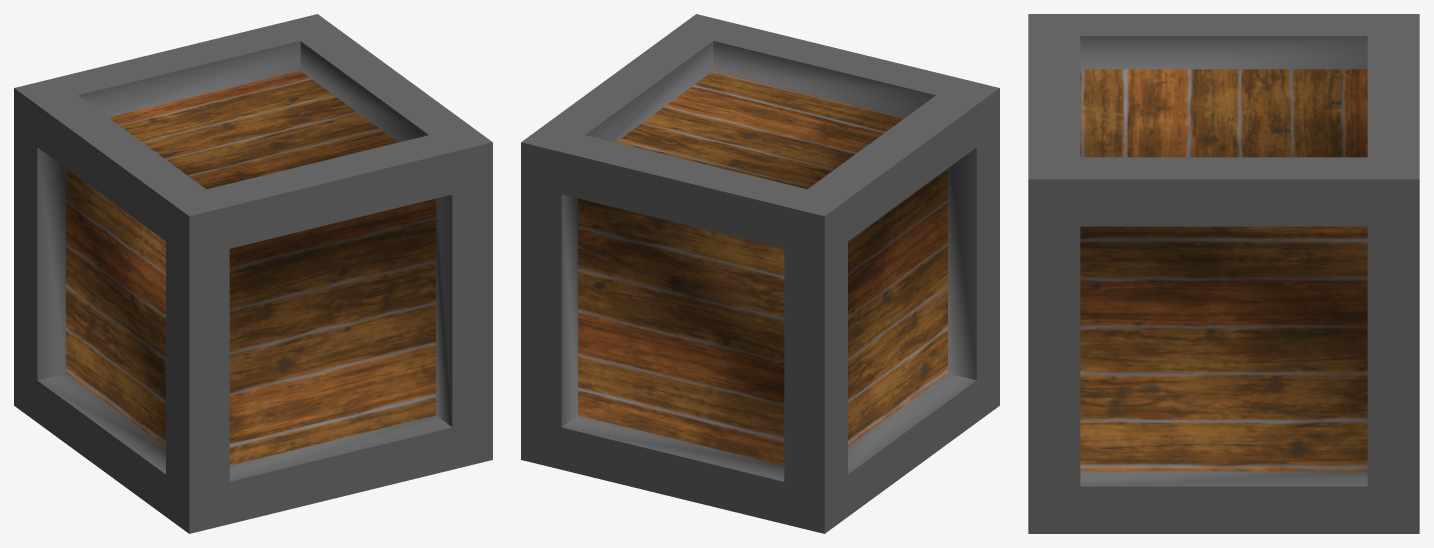
File: crate_1 (1).fbx
3 views of the same model, side by side, from view 1: azimuth 30°, elevation 25°; view 2: azimuth 150°, elevation 25°; view 3: azimuth 270°, elevation 25° (orthographic). The views are drawn at different scales.
Parts seen in each view (by area): view 1: Crate_1; view 2: Crate_1; view 3: Crate_1.
Part boxes in pixels (x1=…): Crate_1: x1=14, y1=14, x2=492, y2=533; Crate_1: x1=521, y1=14, x2=999, y2=533; Crate_1: x1=1028, y1=14, x2=1419, y2=533.
Size of the model in its own units: 99.87 by 99.87 by 99.87.
Materials: 2 (2 with a texture image).
